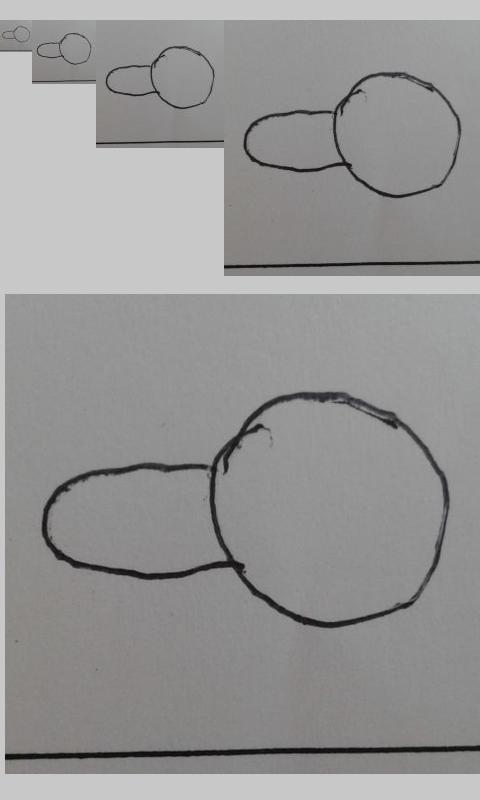switch: (40, 390, 451, 631), (243, 70, 464, 200), (105, 45, 216, 110), (36, 32, 92, 65), (1, 25, 31, 43)
